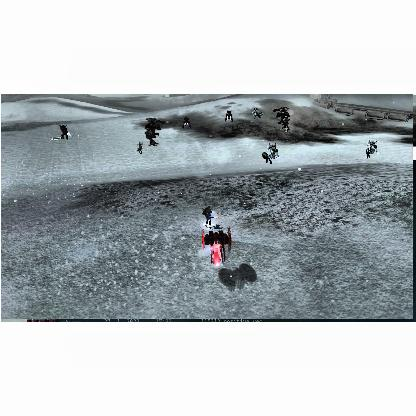caliana: (136, 142, 144, 154)
